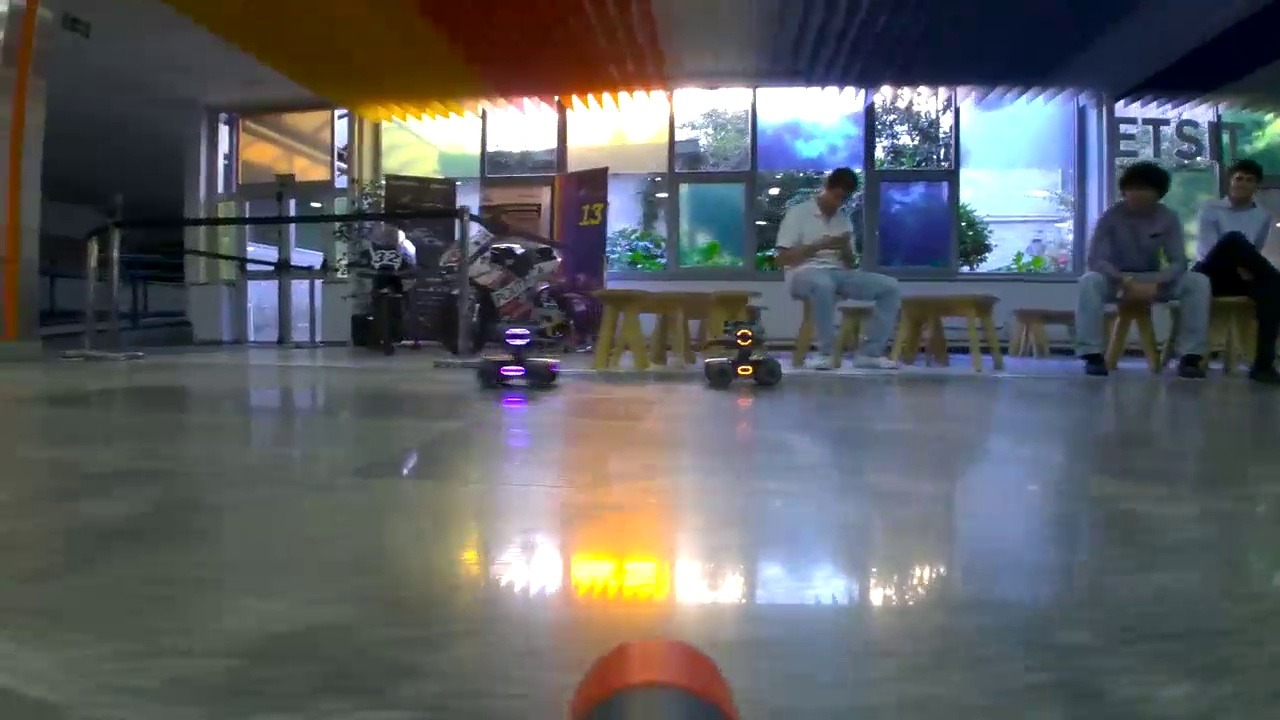robot: (475, 322, 565, 392), (702, 322, 770, 388)
